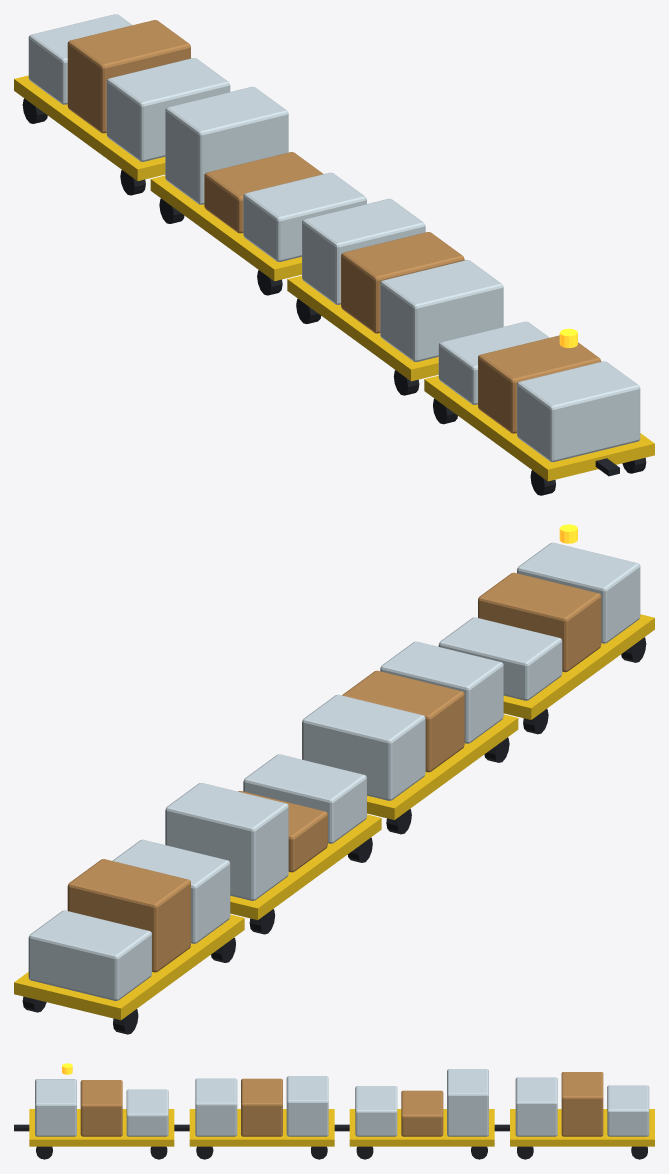
Rendered from tugger-cart.glb.
3 renders of one model, top to bottom at view 1: azimuth 30°, elevation 25°; view 2: azimuth 150°, elevation 25°; view 3: azimuth 270°, elevation 25°, orthographic. The views are drawn at different scales.
Visible parts, largest first — view 1: tugger-cart; view 2: tugger-cart; view 3: tugger-cart.
Part boxes in pixels (left/top/right/bottom): tugger-cart: left=14, top=14, right=654, bottom=495; tugger-cart: left=14, top=524, right=654, bottom=1034; tugger-cart: left=14, top=1063, right=654, bottom=1159.
Bounding box in the file's own units: 1.9 × 2.3 × 16.8.
